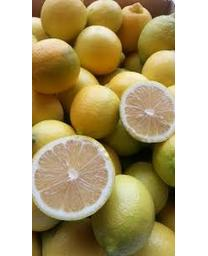lemon: (35, 135, 117, 219), (93, 175, 154, 255), (120, 79, 174, 145), (70, 86, 123, 136), (33, 38, 79, 95), (74, 26, 124, 74), (41, 1, 88, 40)
